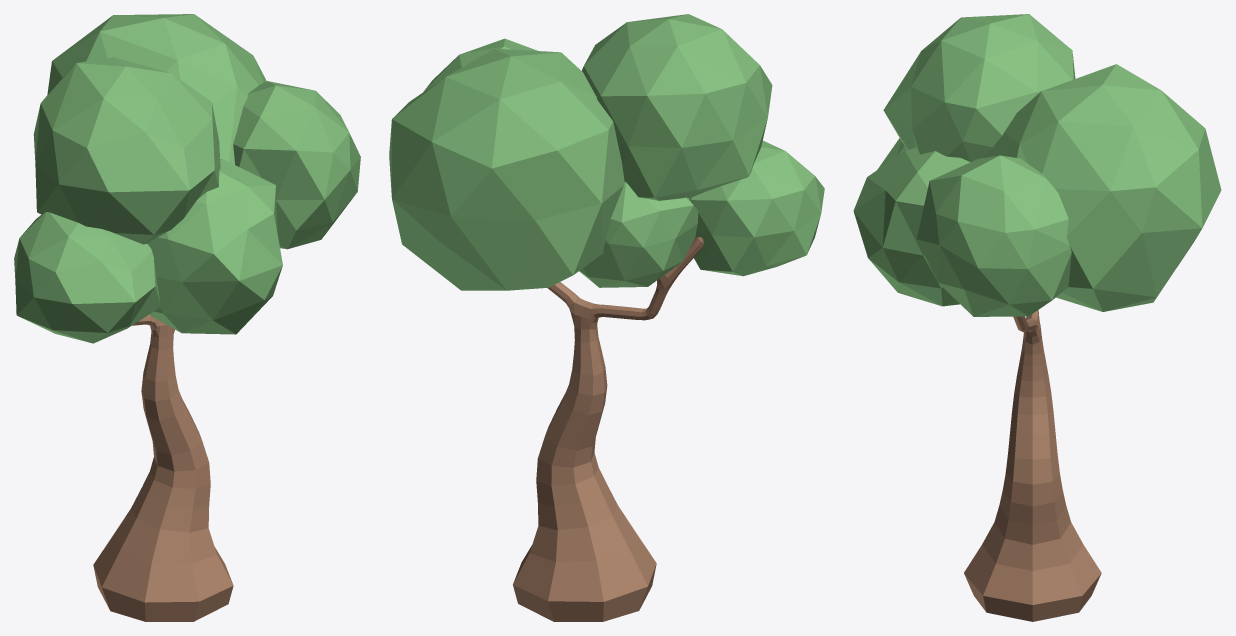
Rendered from Tree 2.fbx.
3 views of the same model, side by side, from view 1: azimuth 30°, elevation 25°; view 2: azimuth 150°, elevation 25°; view 3: azimuth 270°, elevation 25° (orthographic). The views are drawn at different scales.
Parts seen in each view (by area): view 1: Icosphere, Plane; view 2: Icosphere, Plane; view 3: Icosphere, Plane.
Boxes of the visible parts, x1,y1,x2,y2 form: Icosphere: (14, 14, 360, 343); Plane: (93, 315, 233, 621); Icosphere: (389, 14, 824, 290); Plane: (513, 237, 703, 621); Icosphere: (853, 14, 1221, 316); Plane: (964, 310, 1101, 621).
Bounding box in the file's own units: 2155 × 3358 × 2027.
